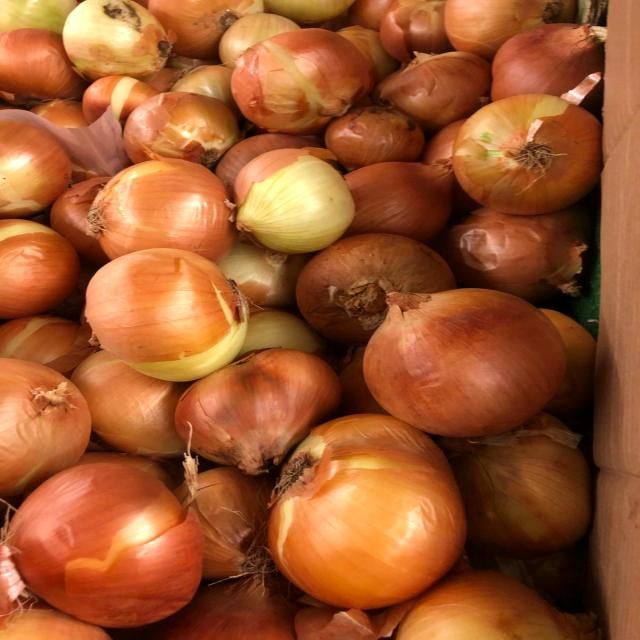onion: (231, 400, 469, 607), (2, 452, 210, 634), (360, 269, 572, 434), (67, 240, 261, 371), (161, 341, 344, 468), (435, 85, 609, 213), (210, 20, 382, 133), (86, 147, 242, 268), (229, 149, 360, 248), (57, 0, 180, 86)
